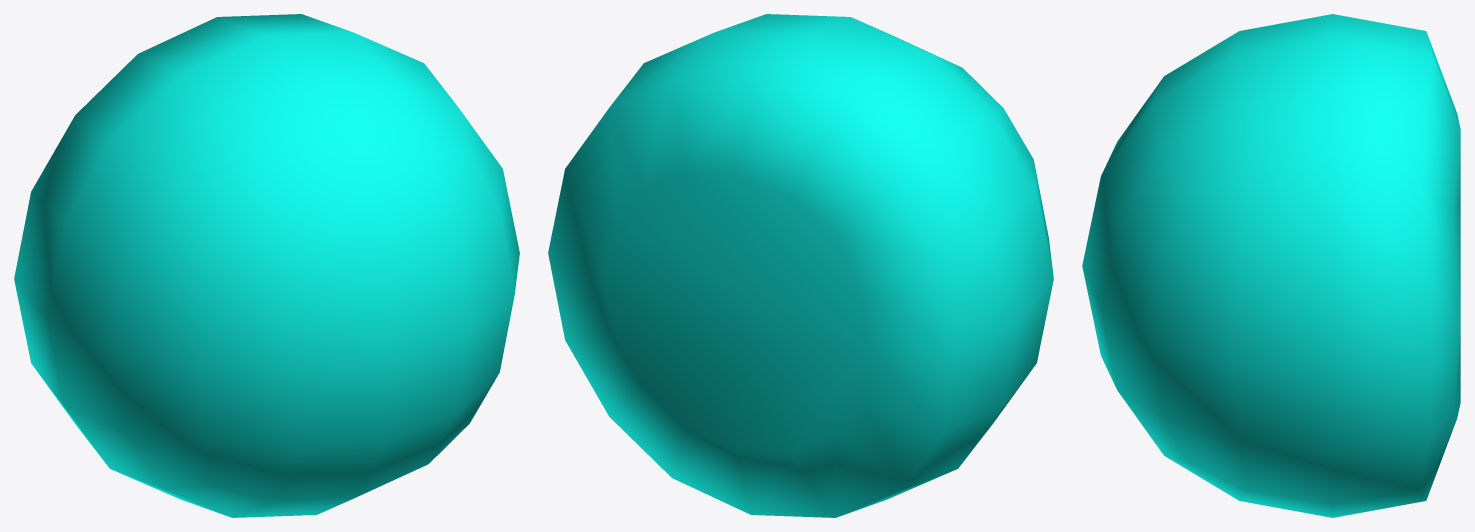
The model's file is SM_FrontBouncing.fbx.
3 renders of one model, left to right at view 1: azimuth 30°, elevation 25°; view 2: azimuth 150°, elevation 25°; view 3: azimuth 270°, elevation 25°, orthographic.
Parts seen in each view (by area): view 1: FrontBouncing; view 2: FrontBouncing; view 3: FrontBouncing.
Boxes of the visible parts, x1,y1,x2,y2 form: FrontBouncing: (14, 14, 519, 517); FrontBouncing: (548, 14, 1053, 517); FrontBouncing: (1082, 14, 1460, 517).
Bounding box in the file's own units: 1.72 × 1.72 × 1.3.
1 material, 1 textured.
